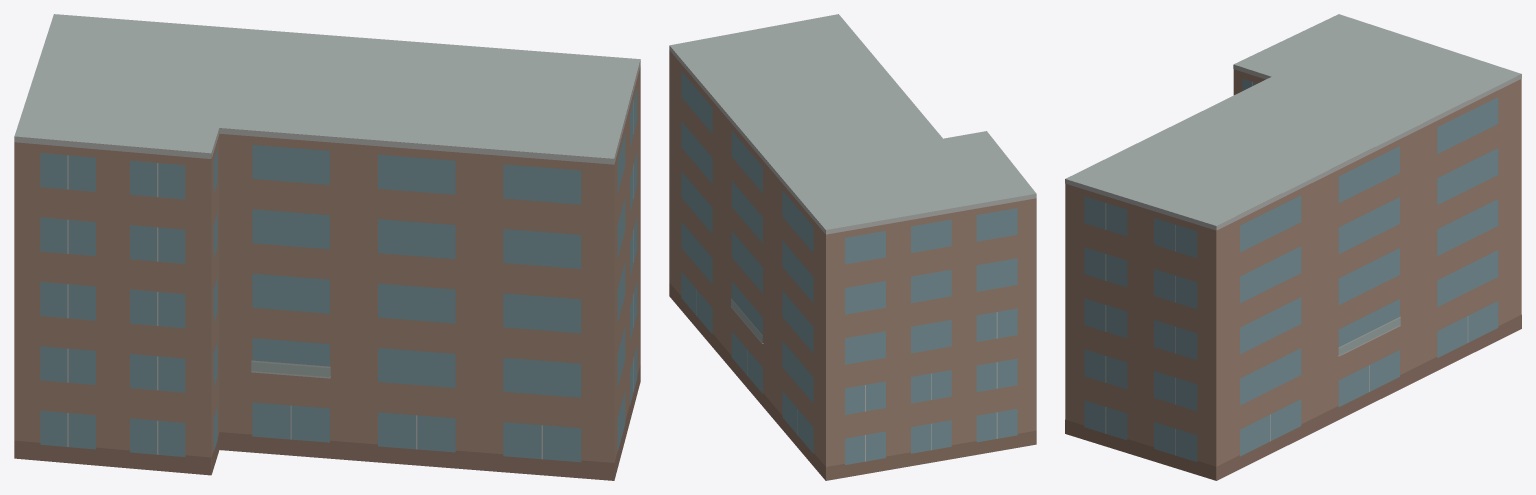
The model's file is survey-upis-32673766.glb.
The picture shows the model from 3 angles, left to right: view 1: azimuth 30°, elevation 25°; view 2: azimuth 150°, elevation 25°; view 3: azimuth 270°, elevation 25°; orthographic projection. The views are drawn at different scales.
Visible parts, largest first — view 1: survey-upis-32673766.tmp; view 2: survey-upis-32673766.tmp; view 3: survey-upis-32673766.tmp.
Part boxes in pixels (<box>): survey-upis-32673766.tmp: <box>14,14,640,480</box>; survey-upis-32673766.tmp: <box>669,14,1036,480</box>; survey-upis-32673766.tmp: <box>1065,14,1521,480</box>.
Bounding box in the file's own units: 24.09 × 13.5 × 21.93.
